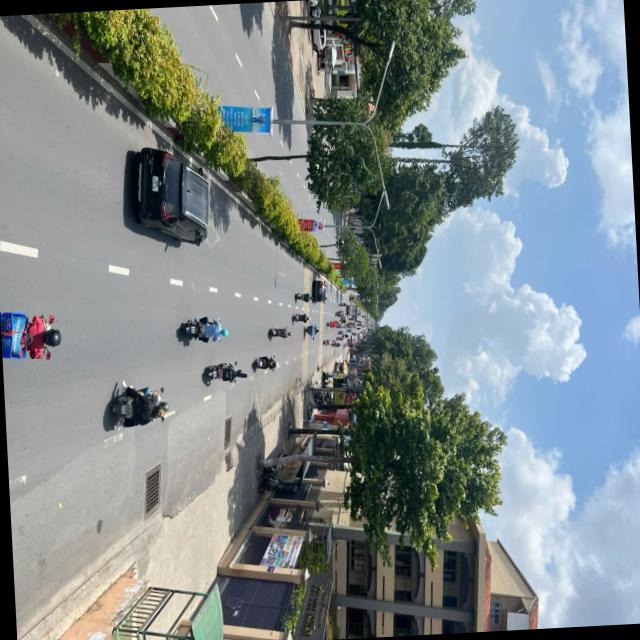Truck: (343, 302, 361, 321)
car: (128, 140, 220, 254), (307, 278, 332, 307)
motobyte: (104, 378, 176, 433), (0, 308, 66, 367), (175, 309, 233, 352), (198, 356, 250, 389), (248, 352, 282, 376), (266, 323, 295, 342), (301, 323, 322, 342), (289, 310, 314, 325), (292, 290, 316, 305)
